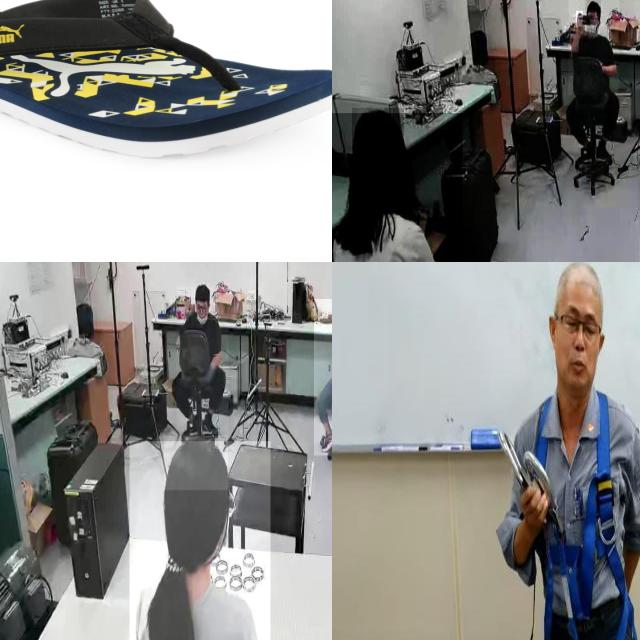Harness: (530, 391, 640, 640)
Sandals: (0, 0, 332, 161)
face_mask: (581, 14, 600, 36)
glasses: (595, 137, 614, 164)
hand_noglove: (576, 11, 584, 28)
head_nohelmet: (164, 436, 228, 491), (352, 108, 404, 151), (194, 283, 210, 299), (585, 0, 601, 13)
person: (129, 441, 270, 640), (332, 113, 463, 262), (177, 286, 229, 436), (568, 0, 619, 96), (314, 298, 332, 456)
shoes: (200, 408, 220, 441), (319, 427, 332, 456)
